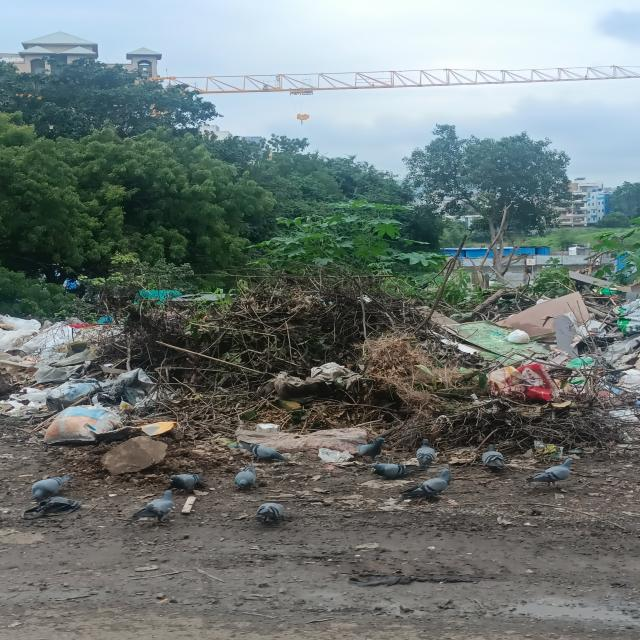garbage: (1, 288, 640, 468)
